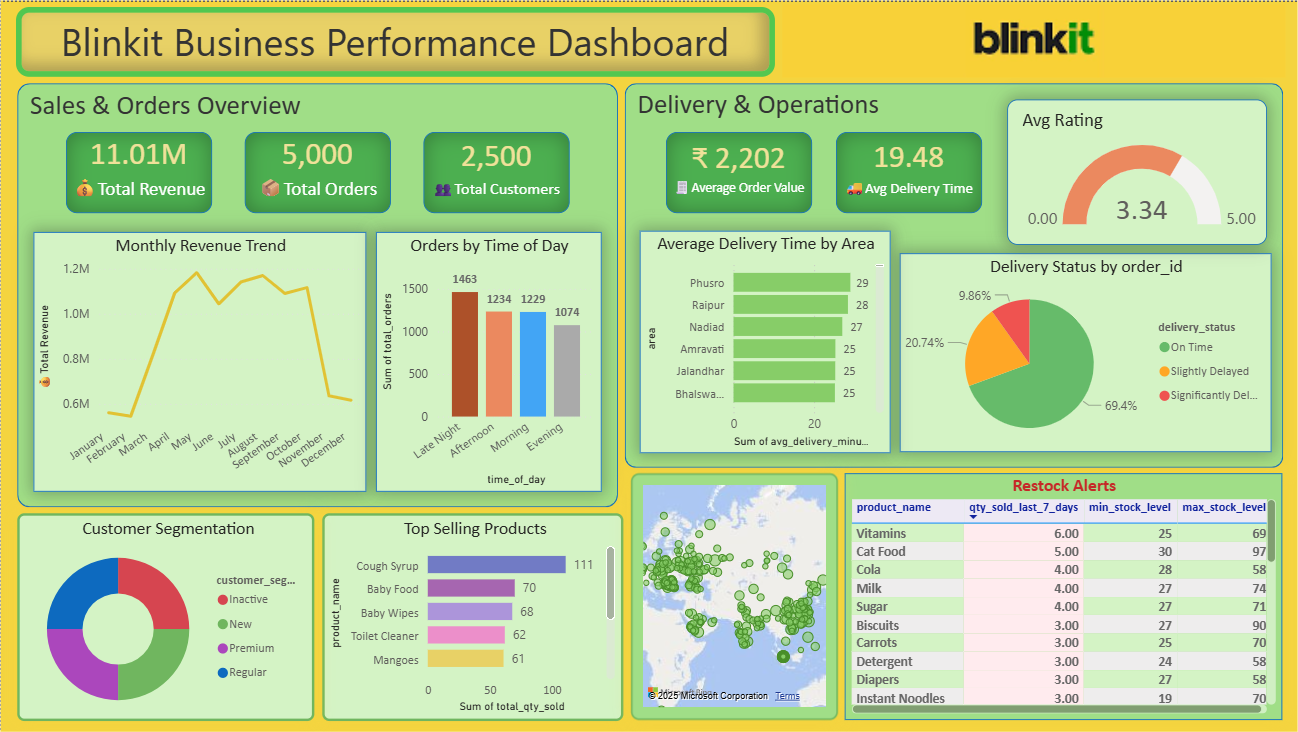

This screenshot's page, from the dashboard's own definition file:
{"tool":"powerbi","page":{"name":"Page 1","canvas":[1280,720],"ordinal":0},"visuals":[{"type":"shape","title":"SALES & ORDERS OVERVIEW","box":[615,80,649,379],"z":0},{"type":"shape","title":"SALES & ORDERS OVERVIEW","box":[16,80,592,418],"z":1000},{"type":"card","fields":{"Values":["blinkit_db orders.Total Orders"]},"box":[240,128,144,80],"z":2000},{"type":"card","fields":{"Values":["blinkit_db customers.Total Customers"]},"box":[416,128,144,80],"z":3000},{"type":"card","fields":{"Values":["blinkit_db orders.AOV"]},"box":[656,128,144,80],"z":4000},{"type":"card","fields":{"Values":["blinkit_db vw_avg_delivery_time.Avg Delivery Time (min)"]},"box":[823,128,144,80],"z":5000},{"type":"card","fields":{"Values":["blinkit_db orders.Total Revenue"]},"box":[64,128,144,80],"z":6000},{"type":"lineChart","title":"Monthly Revenue Trend","fields":{"Category":["blinkit_db orders.order_date.Variation.Date Hierarchy.Month"],"Y":["blinkit_db orders.💰Total Revenue"]},"box":[32,227,328,256],"z":7000},{"type":"clusteredColumnChart","title":"Orders by Time of Day","fields":{"Category":["blinkit_db vw_orders_by_time_of_day.time_of_day"],"Y":["Sum(blinkit_db vw_orders_by_time_of_day.total_orders)"]},"box":[370,227,222,256],"z":8000},{"type":"pieChart","title":"Delivery Status by order_id","fields":{"Y":["CountNonNull(blinkit_db orders.order_id)"],"Category":["blinkit_db orders.delivery_status"]},"box":[886,248,366,196],"z":9000},{"type":"clusteredBarChart","title":"Average Delivery Time by Area","fields":{"Category":["blinkit_db vw_avg_delivery_time.area"],"Y":["Sum(blinkit_db vw_avg_delivery_time.avg_delivery_minutes)"]},"box":[630,225,247,219],"z":10000},{"type":"textbox","box":[15,5,748,69],"z":11000},{"type":"clusteredBarChart","title":"Top Selling Products","fields":{"Category":["blinkit_db vw_top_products.product_name"],"Y":["Sum(blinkit_db vw_top_products.total_qty_sold)"]},"box":[317,504,297,205],"z":12000},{"type":"tableEx","title":"Restock Alerts","fields":{"Values":["blinkit_db vw_restock_products.product_name","blinkit_db vw_restock_products.qty_sold_last_7_days","blinkit_db vw_restock_products.min_stock_level","blinkit_db vw_restock_products.max_stock_level"]},"box":[832,464,431,243],"z":13000},{"type":"gauge","fields":{"Y":["blinkit_db customer_feedback.Avg Rating"]},"box":[992,96,256,143],"z":14000},{"type":"donutChart","title":"Customer Segmentation","fields":{"Category":["blinkit_db vw_customer_types.customer_segment"],"Y":["CountNonNull(blinkit_db vw_customer_types.user_count)"]},"box":[16,504,293,205],"z":15000},{"type":"map","fields":{"Size":["blinkit_db orders.📦Total Orders"],"Category":["blinkit_db customers.pincode"]},"box":[621,464,204,243],"z":16000},{"type":"image","box":[770,3,496,72],"z":17000}]}

Visuals, with their boxes in screenshot pixels (x1, y1, x2, y2), scaled from the page's 1280x720 canvas onto the 1298x732 screenshot:
"SALES & ORDERS OVERVIEW" shape: {"x1": 624, "y1": 81, "x2": 1282, "y2": 467}
"SALES & ORDERS OVERVIEW" shape: {"x1": 16, "y1": 81, "x2": 617, "y2": 506}
card - blinkit_db orders.Total Orders: {"x1": 243, "y1": 130, "x2": 389, "y2": 211}
card - blinkit_db customers.Total Customers: {"x1": 422, "y1": 130, "x2": 568, "y2": 211}
card - blinkit_db orders.AOV: {"x1": 665, "y1": 130, "x2": 811, "y2": 211}
card - blinkit_db vw_avg_delivery_time.Avg Delivery Time (min): {"x1": 835, "y1": 130, "x2": 981, "y2": 211}
card - blinkit_db orders.Total Revenue: {"x1": 65, "y1": 130, "x2": 211, "y2": 211}
"Monthly Revenue Trend" lineChart: {"x1": 32, "y1": 231, "x2": 365, "y2": 491}
"Orders by Time of Day" clusteredColumnChart: {"x1": 375, "y1": 231, "x2": 600, "y2": 491}
"Delivery Status by order_id" pieChart: {"x1": 898, "y1": 252, "x2": 1270, "y2": 451}
"Average Delivery Time by Area" clusteredBarChart: {"x1": 639, "y1": 229, "x2": 889, "y2": 451}
textbox: {"x1": 15, "y1": 5, "x2": 774, "y2": 75}
"Top Selling Products" clusteredBarChart: {"x1": 321, "y1": 512, "x2": 623, "y2": 721}
"Restock Alerts" tableEx: {"x1": 844, "y1": 472, "x2": 1281, "y2": 719}
gauge - blinkit_db customer_feedback.Avg Rating: {"x1": 1006, "y1": 98, "x2": 1266, "y2": 243}
"Customer Segmentation" donutChart: {"x1": 16, "y1": 512, "x2": 313, "y2": 721}
map - blinkit_db orders.📦Total Orders x blinkit_db customers.pincode: {"x1": 630, "y1": 472, "x2": 837, "y2": 719}
image: {"x1": 781, "y1": 3, "x2": 1284, "y2": 76}
